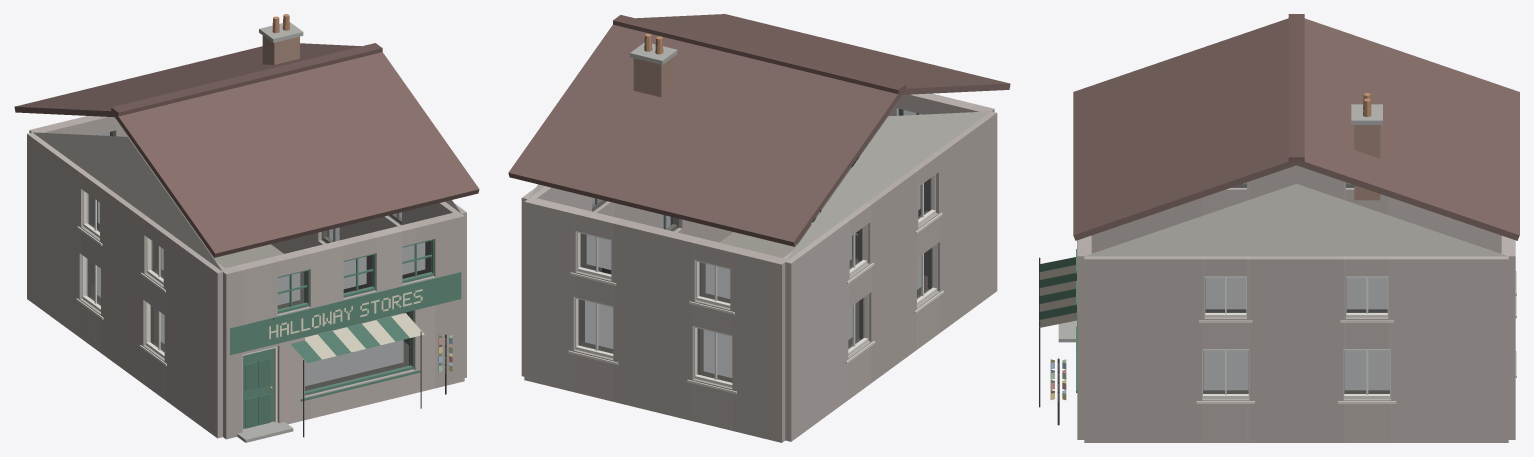
The model's file is town_shop_a_float.glb.
3 views of the same model, side by side, from view 1: azimuth 30°, elevation 25°; view 2: azimuth 150°, elevation 25°; view 3: azimuth 270°, elevation 25° (orthographic). The views are drawn at different scales.
Visible parts, largest first — view 1: body, window_light; view 2: body, window_light; view 3: body, window_light, card_stand.
Boxes of the visible parts, bbox=[...] form: body: bbox=[14, 14, 479, 442]; window_light: bbox=[97, 201, 425, 386]; body: bbox=[508, 14, 1010, 442]; window_light: bbox=[585, 186, 921, 377]; body: bbox=[1039, 14, 1519, 442]; window_light: bbox=[1203, 277, 1389, 390]; card_stand: bbox=[1050, 357, 1066, 425].
Size of what is drawn, in the model's own units: 7.2 by 7.4 by 10.2.
